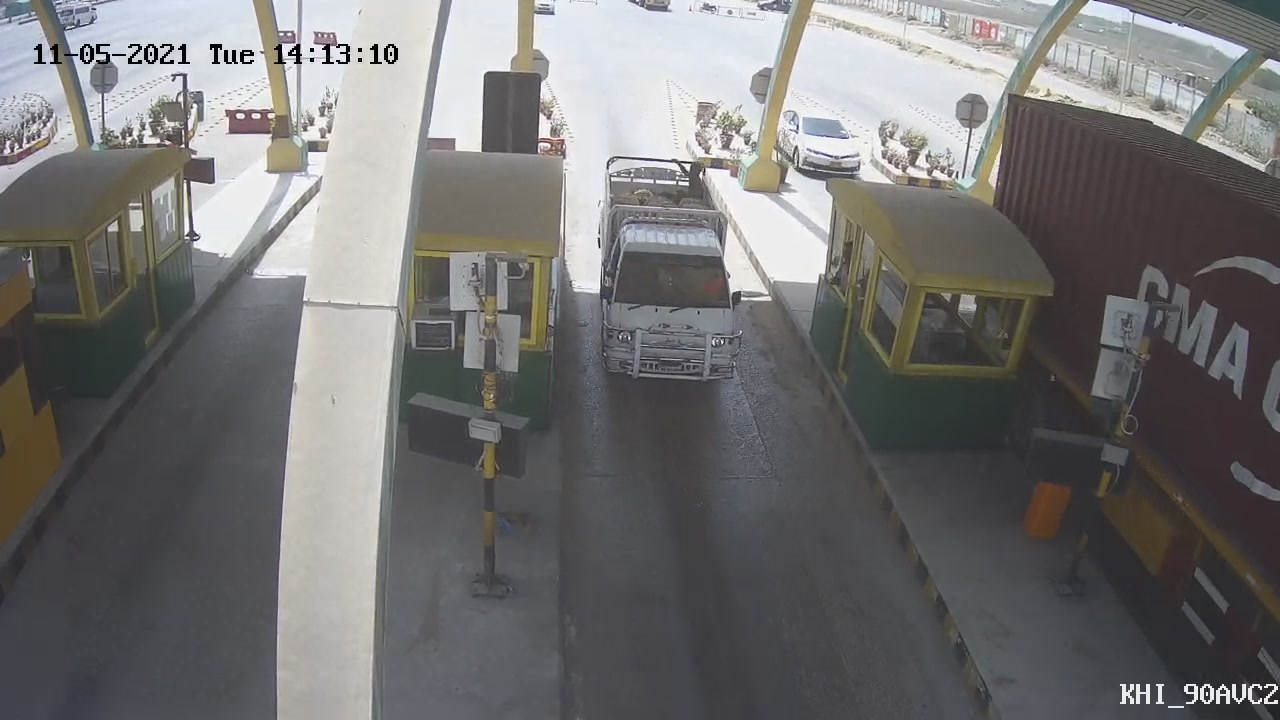F2: (590, 151, 742, 385)
